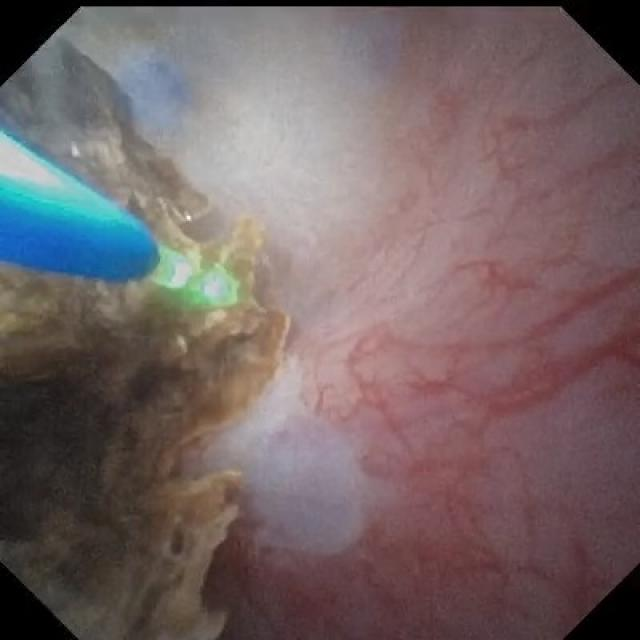laser-fibre: (150, 245, 194, 288)
laser_dot: (203, 274, 229, 299)
stone-new: (1, 35, 289, 638)
